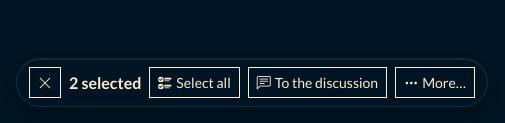
Test case: BatchActionBar discussion › gives a viewer the discussion and the downloads, and no metadata action
This screenshot has width=505, height=123.
Check: the button "To the discussion" is shown, box [248,67,387,98]
Check: the button "Select all" is shown, box [149,67,240,98]
Click the button "More…".
click(435, 82)  # box [395,67,475,98]
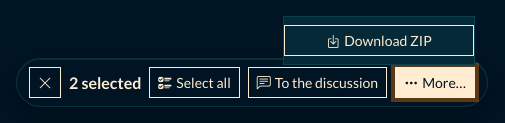
Check: the button "Download ZIP" is shown, box [284,25,474,56]
